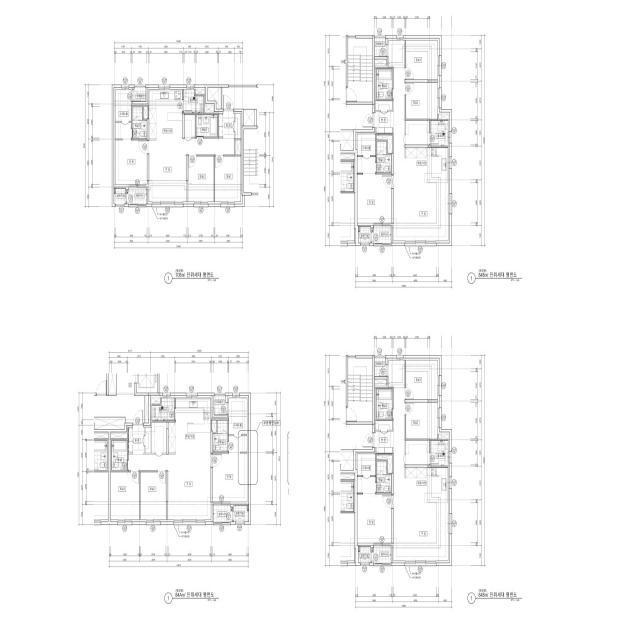space_balconi: (152, 398, 174, 421), (184, 90, 204, 113), (430, 121, 448, 146), (430, 441, 448, 466), (213, 505, 233, 522), (372, 226, 391, 243), (372, 546, 391, 563), (127, 188, 147, 204)
space_bedroom: (357, 174, 391, 223), (357, 494, 391, 543), (213, 453, 247, 502), (116, 140, 147, 185), (111, 472, 139, 520), (406, 360, 438, 400), (406, 41, 438, 80), (140, 472, 166, 520), (188, 156, 214, 202), (215, 156, 241, 202), (406, 83, 438, 119), (406, 403, 438, 439)
space_dressroom: (229, 398, 247, 452), (357, 134, 376, 173), (357, 454, 376, 493), (116, 90, 131, 139)
space_front: (128, 425, 144, 453), (219, 110, 234, 138), (374, 112, 393, 134), (374, 432, 393, 454)
space_kitchen: (168, 398, 211, 453), (149, 90, 183, 139), (405, 148, 448, 183), (405, 468, 448, 503)
space_living_room: (389, 360, 448, 561), (389, 41, 448, 241), (128, 453, 211, 520), (149, 138, 234, 202)
space_other: (406, 121, 429, 145), (406, 441, 429, 465), (152, 422, 166, 453), (208, 88, 221, 109), (377, 135, 392, 153), (377, 455, 392, 473), (214, 396, 227, 415), (184, 115, 195, 137), (375, 38, 387, 57), (375, 358, 387, 376), (244, 109, 255, 126), (133, 87, 146, 101), (376, 420, 392, 430), (235, 114, 241, 139), (145, 428, 151, 453), (376, 101, 392, 110), (145, 396, 149, 423), (111, 433, 127, 439), (235, 140, 241, 155), (375, 59, 387, 65), (375, 379, 387, 385), (205, 105, 213, 113), (143, 107, 148, 119), (195, 89, 205, 95), (212, 420, 217, 432), (152, 398, 160, 404), (439, 114, 448, 119), (439, 434, 448, 439)
space_outdoor_room: (234, 506, 249, 522), (358, 227, 371, 243), (358, 547, 371, 563), (114, 188, 126, 204)
space_staircase: (348, 358, 372, 422), (348, 38, 372, 102)
space_toilet: (196, 115, 218, 137), (132, 107, 147, 139), (376, 389, 392, 419), (213, 420, 228, 452), (376, 69, 392, 99), (112, 440, 127, 471), (377, 141, 391, 173), (377, 461, 391, 493)
